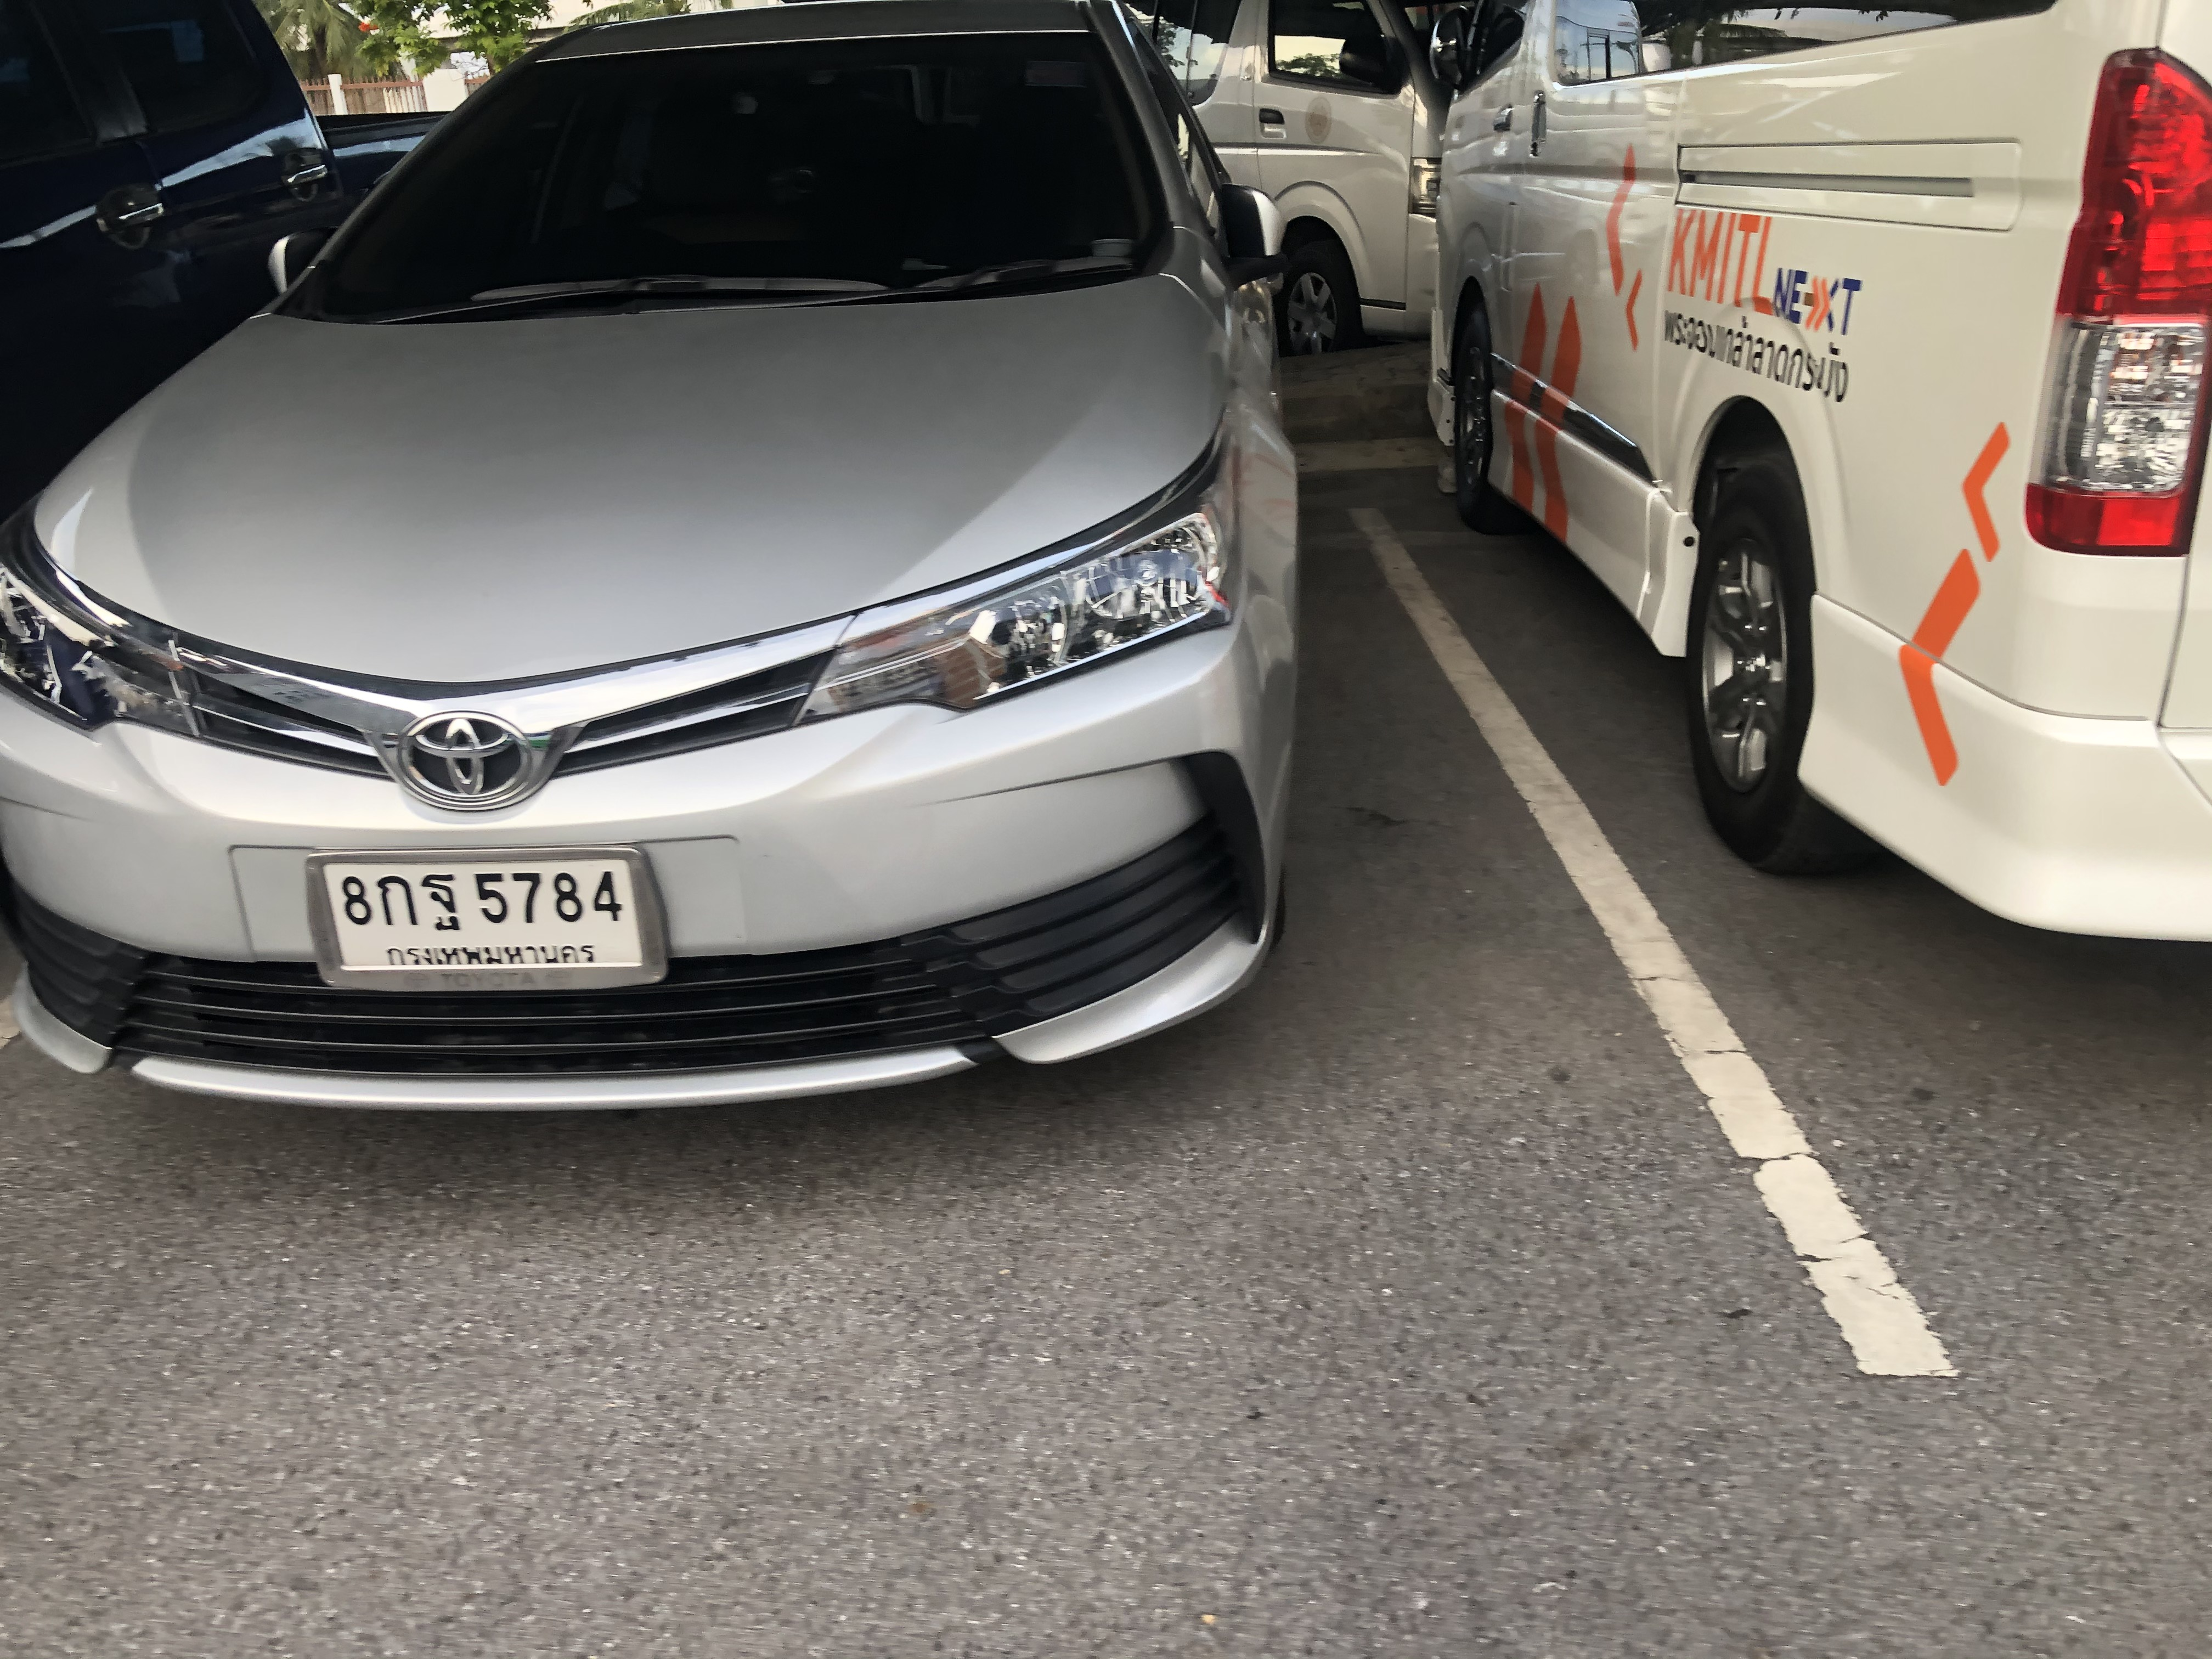in: (322, 861, 643, 965)
out: (303, 847, 676, 992)
